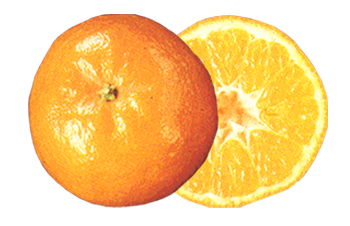orange: (22, 11, 219, 212), (178, 13, 329, 210)
